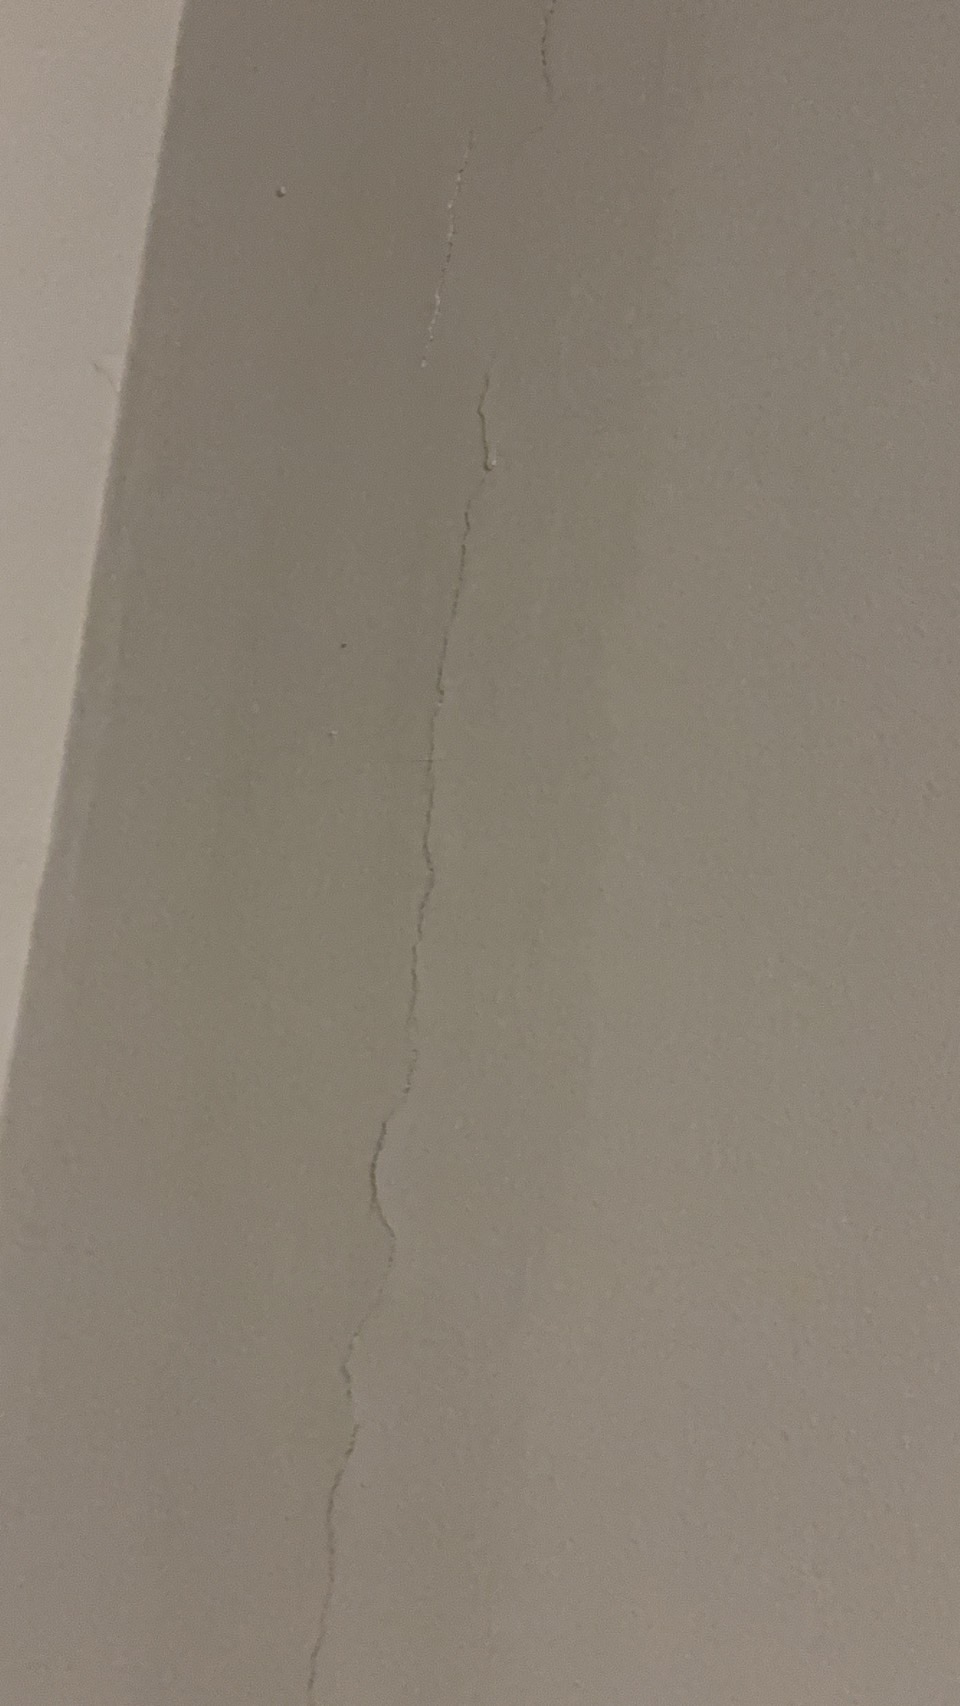Low: (272, 1, 683, 1694)
